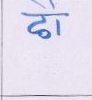au_matra: (44, 0, 66, 36)
